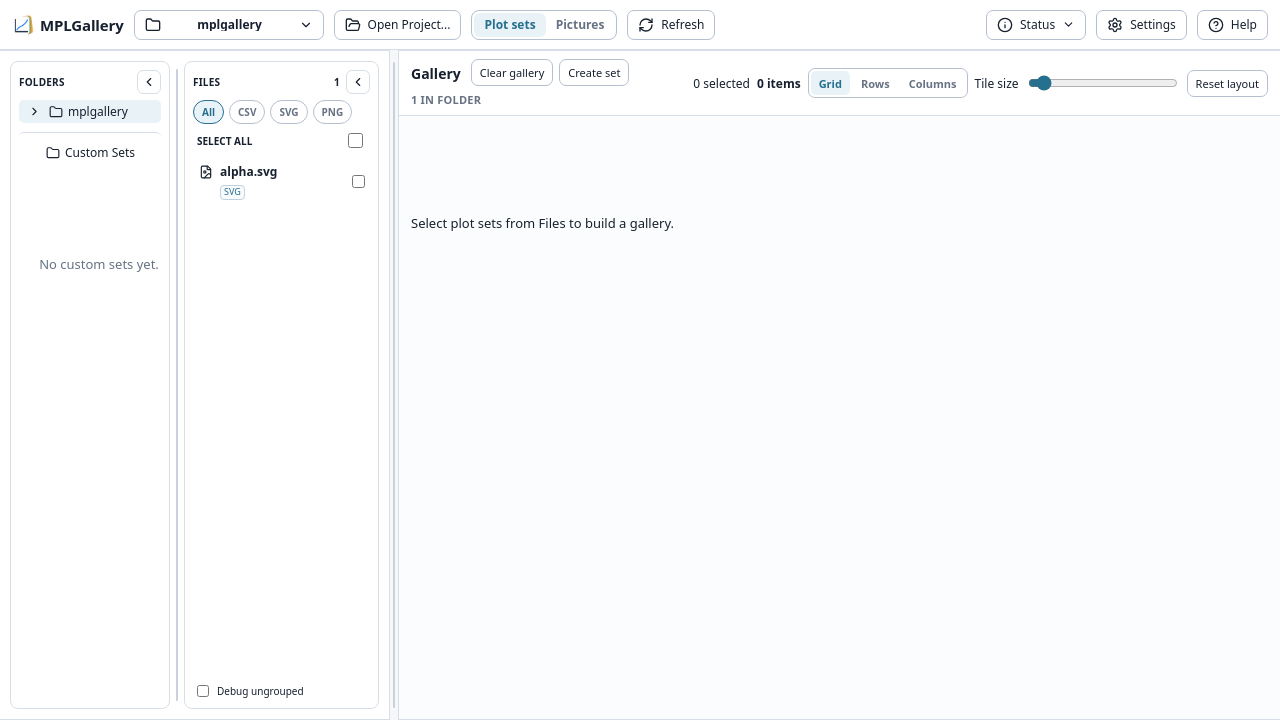
Test: App explorer › shows CSV tab for record-only cards when a matched csvPath exists
Click the checkbox named "Show alpha.svg" at x=358, y=181, box [352,175,365,188]
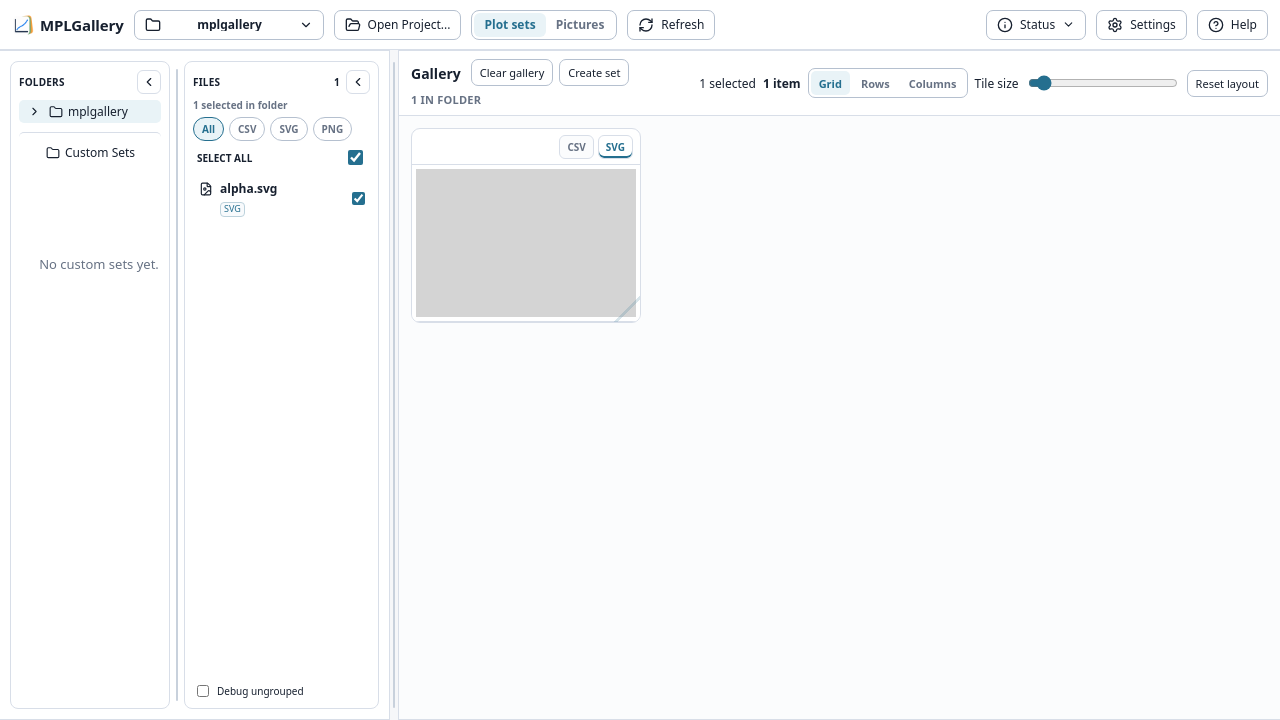
Now the tab "CSV" is shown
Click the tab "CSV" at x=577, y=146, box [560,134,594,158]
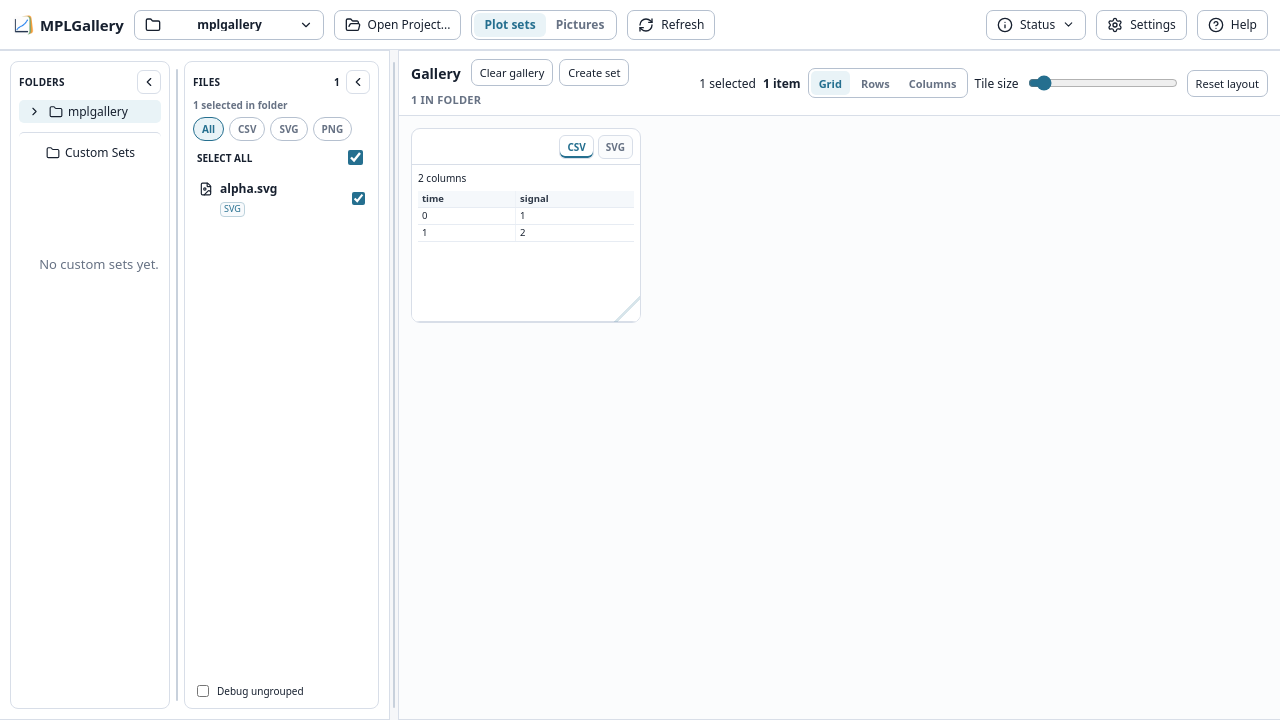
Now the table is shown, box [418,191,634,242]
Now the column heading "signal" is shown, box [516,191,634,207]
